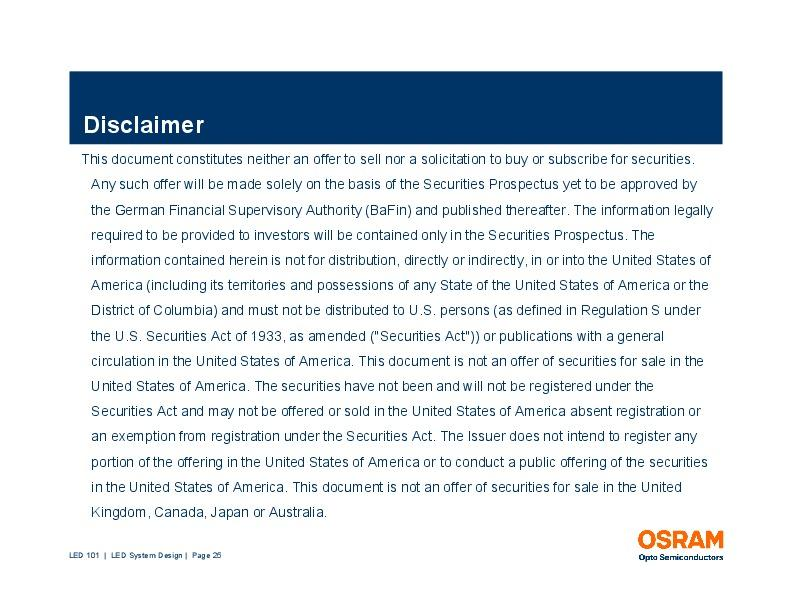paragraph: (73, 147, 723, 524)
title: (79, 108, 219, 144)
